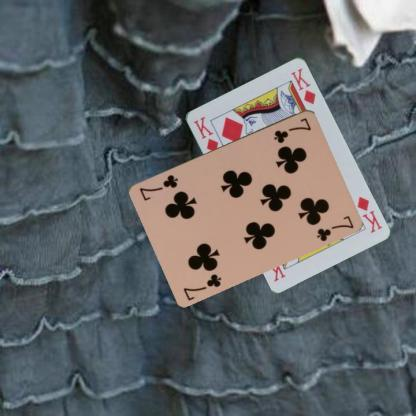7c: (181, 270, 223, 302), (271, 115, 313, 144)
Kd: (354, 193, 383, 234), (191, 114, 220, 154)
